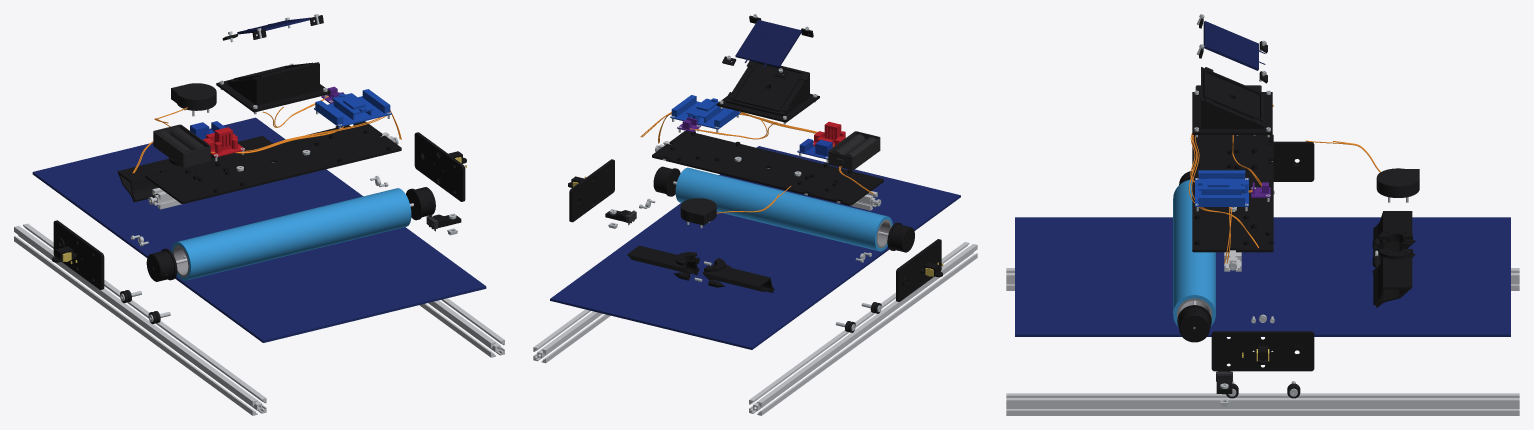
File: arc_exploded.glb
3 views of the same model, side by side, from view 1: azimuth 30°, elevation 25°; view 2: azimuth 150°, elevation 25°; view 3: azimuth 270°, elevation 25° (orthographic). The views are drawn at different scales.
Parts seen in each view (by area): view 1: exploded_cots_solar_panel, exploded_roller_sleeve, exploded_chassis_tray, exploded_cots_guide_rail_left, exploded_solar_wedge, exploded_endplate_right, exploded_cots_esp32_shield, exploded_endplate_left, exploded_cots_guide_rail_right, exploded_cots_battery_2x18650, exploded_cowl_left, exploded_cots_blower_5015 (+3 smaller); view 2: exploded_cots_solar_panel, exploded_roller_sleeve, exploded_chassis_tray, exploded_cots_guide_rail_left, exploded_solar_wedge, exploded_cots_pv_mini_panel, exploded_endplate_right, exploded_cots_guide_rail_right, exploded_endplate_left, exploded_cots_battery_2x18650, exploded_cots_esp32_shield, exploded_cowl_right (+6 smaller); view 3: exploded_cots_solar_panel, exploded_cots_guide_rail_right, exploded_chassis_tray, exploded_solar_wedge, exploded_endplate_right, exploded_roller_sleeve, exploded_cowl_right, exploded_cots_esp32_shield, exploded_endplate_left, exploded_cots_pv_mini_panel, exploded_cowl_left, exploded_cots_blower_5015 (+1 smaller).
Boxes of the visible parts, x1=… form: exploded_cots_solar_panel: x1=32, y1=117, x2=486, y2=342; exploded_roller_sleeve: x1=171, y1=188, x2=411, y2=280; exploded_chassis_tray: x1=145, y1=121, x2=401, y2=203; exploded_cots_guide_rail_left: x1=14, y1=223, x2=266, y2=415; exploded_solar_wedge: x1=216, y1=62, x2=330, y2=112; exploded_endplate_right: x1=414, y1=132, x2=465, y2=201; exploded_cots_esp32_shield: x1=314, y1=89, x2=391, y2=127; exploded_endplate_left: x1=53, y1=220, x2=104, y2=289; exploded_cots_guide_rail_right: x1=419, y1=298, x2=504, y2=357; exploded_cots_battery_2x18650: x1=153, y1=124, x2=210, y2=167; exploded_cowl_left: x1=117, y1=158, x2=179, y2=202; exploded_cots_blower_5015: x1=171, y1=83, x2=216, y2=110; exploded_cots_solar_panel: x1=550, y1=146, x2=960, y2=349; exploded_roller_sleeve: x1=675, y1=167, x2=892, y2=251; exploded_chassis_tray: x1=652, y1=131, x2=883, y2=205; exploded_cots_guide_rail_left: x1=749, y1=242, x2=977, y2=415; exploded_solar_wedge: x1=716, y1=60, x2=819, y2=122; exploded_cots_pv_mini_panel: x1=735, y1=19, x2=801, y2=67; exploded_endplate_right: x1=569, y1=159, x2=614, y2=222; exploded_cots_guide_rail_right: x1=533, y1=309, x2=610, y2=363; exploded_endplate_left: x1=896, y1=239, x2=941, y2=301; exploded_cots_battery_2x18650: x1=828, y1=131, x2=880, y2=170; exploded_cots_esp32_shield: x1=670, y1=95, x2=740, y2=129; exploded_cowl_right: x1=627, y1=245, x2=699, y2=280; exploded_cots_solar_panel: x1=1015, y1=217, x2=1510, y2=336; exploded_cots_guide_rail_right: x1=1006, y1=393, x2=1519, y2=415; exploded_chassis_tray: x1=1192, y1=135, x2=1273, y2=252; exploded_solar_wedge: x1=1192, y1=67, x2=1272, y2=134; exploded_endplate_right: x1=1211, y1=331, x2=1314, y2=371; exploded_roller_sleeve: x1=1173, y1=180, x2=1215, y2=326; exploded_cowl_right: x1=1372, y1=249, x2=1415, y2=307; exploded_cots_esp32_shield: x1=1195, y1=170, x2=1248, y2=206; exploded_endplate_left: x1=1269, y1=141, x2=1314, y2=181; exploded_cots_pv_mini_panel: x1=1203, y1=21, x2=1265, y2=70; exploded_cowl_left: x1=1372, y1=211, x2=1415, y2=258; exploded_cots_blower_5015: x1=1376, y1=168, x2=1419, y2=197.
Bounding box in the file's own units: 0.6 × 0.4131 × 0.6.
